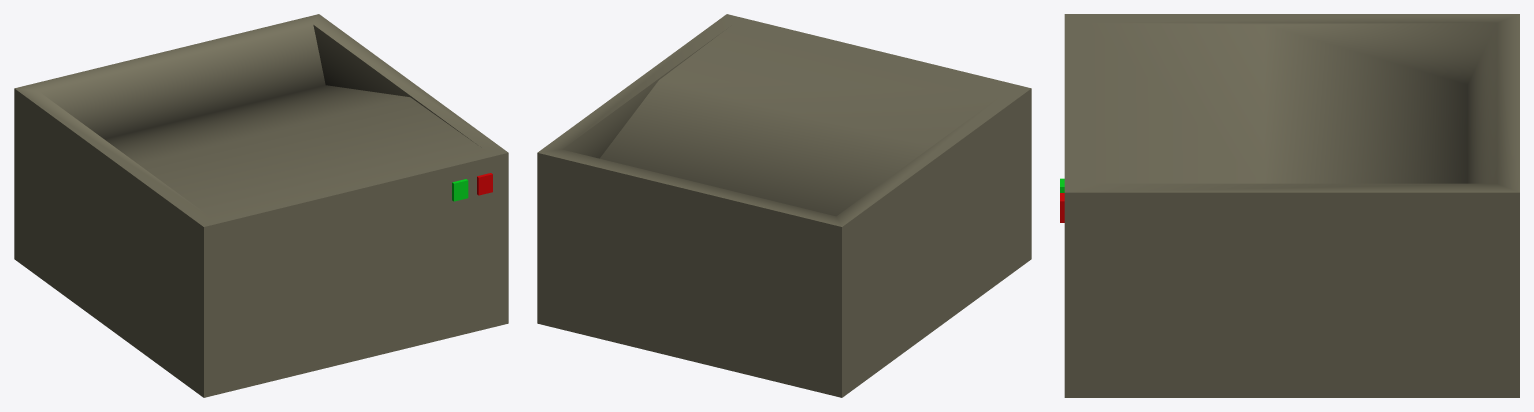
Rendered from printer.fbx.
3 views of the same model, side by side, from view 1: azimuth 30°, elevation 25°; view 2: azimuth 150°, elevation 25°; view 3: azimuth 270°, elevation 25° (orthographic). The views are drawn at different scales.
Parts seen in each view (by area): view 1: pCube9; view 2: pCube9; view 3: pCube9.
Boxes of the visible parts, left/top/right/bottom form: pCube9: left=14, top=14, right=508, bottom=397; pCube9: left=537, top=14, right=1031, bottom=397; pCube9: left=1060, top=14, right=1519, bottom=397.
Bounding box in the file's own units: 4.85 × 2.6 × 5.27.
